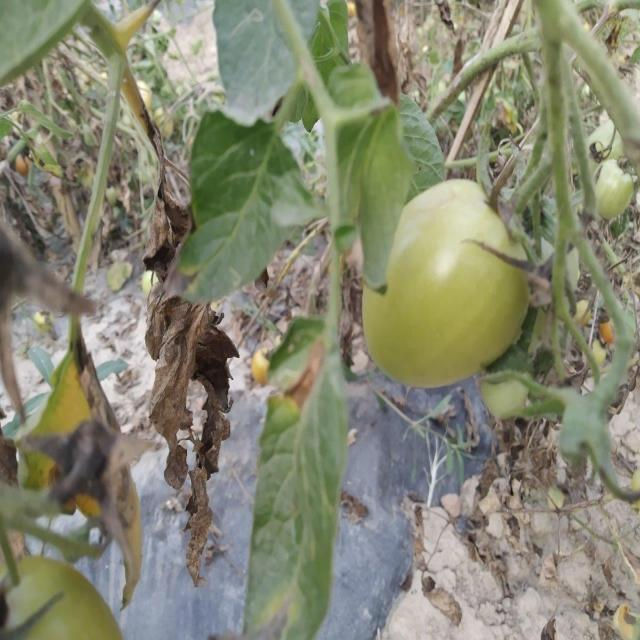Unripe: (362, 178, 531, 388)
